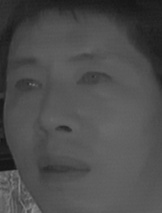eye: (75, 68, 112, 91), (10, 75, 43, 95)
mouth: (34, 148, 91, 186)
